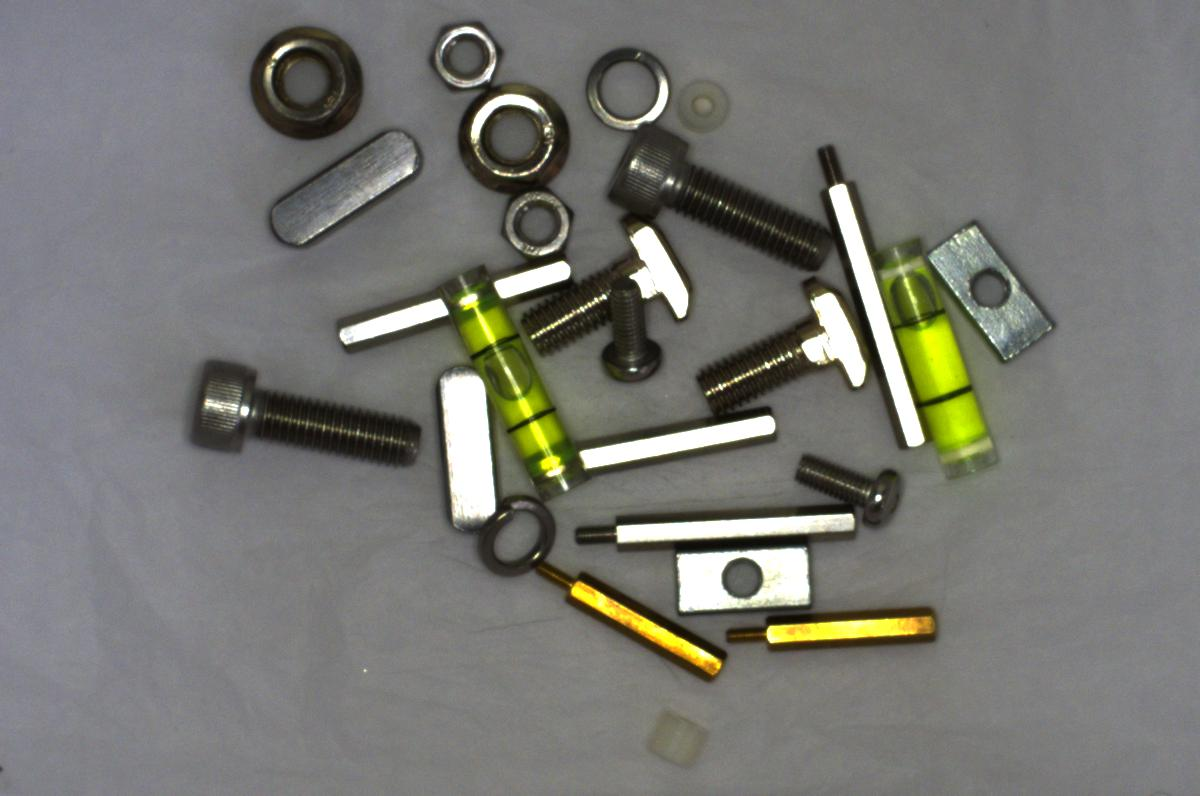Double hexagonal column: (323, 249, 579, 354), (569, 405, 783, 478)
Flange nut: (241, 9, 371, 146), (457, 78, 578, 196)
Hexagon nut: (417, 12, 505, 96), (496, 180, 574, 260)
Hexagon pillar: (537, 548, 726, 678), (719, 601, 942, 653)
Hexagon screw: (601, 124, 841, 272), (180, 354, 420, 481)
Hexagonal steel column: (798, 133, 928, 464), (566, 496, 853, 551)
Horizontal bubble: (878, 227, 1003, 483), (441, 265, 578, 496)
Keybar: (255, 118, 428, 256), (415, 354, 508, 531)
Plastic cushion pillar: (647, 705, 717, 776), (675, 69, 732, 137)
Rectangular nut: (924, 218, 1066, 367), (674, 537, 820, 619)
Round head screw: (780, 448, 911, 533), (598, 282, 666, 392)
Spring washer: (575, 40, 679, 133), (474, 498, 558, 581)
T-shaped screw: (524, 218, 710, 350), (703, 283, 873, 417)
